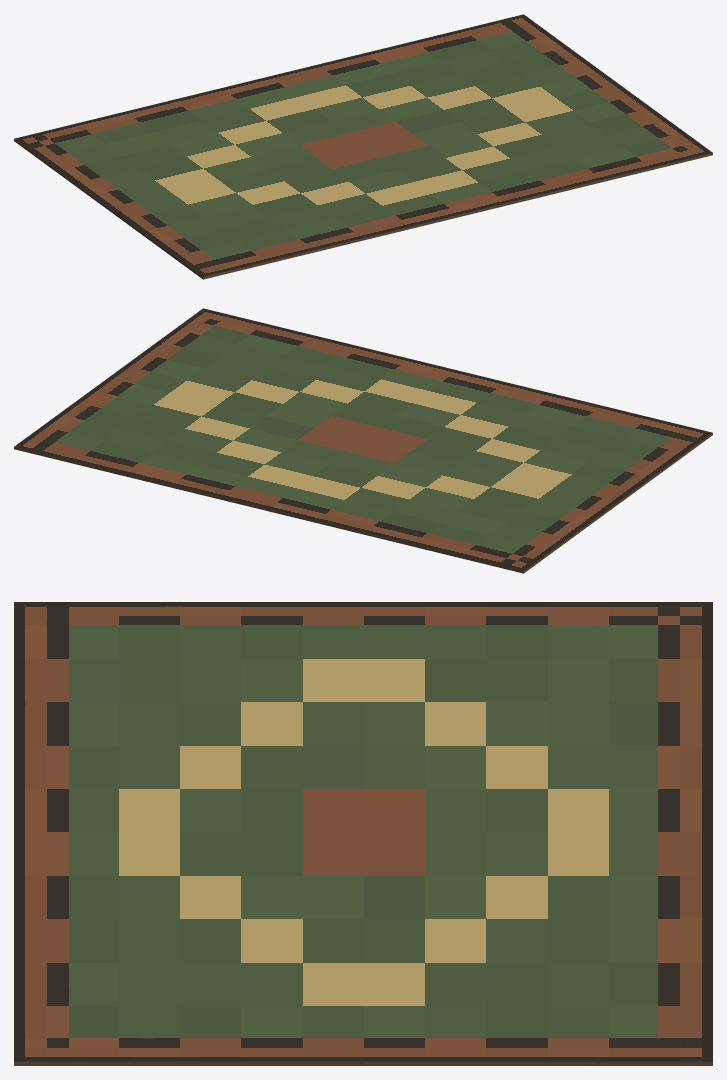
File: rug-large.glb
3 views of the same model, one above another, from view 1: azimuth 30°, elevation 25°; view 2: azimuth 150°, elevation 25°; view 3: azimuth 270°, elevation 25° (orthographic). The views are drawn at different scales.
Visible parts, largest first — view 1: rug-large.001; view 2: rug-large.001; view 3: rug-large.001.
Boxes of the visible parts, x1,y1,x2,y2 form: rug-large.001: [14, 14, 712, 279]; rug-large.001: [14, 308, 712, 573]; rug-large.001: [14, 602, 712, 1065].
Size of the model in its own units: 2.8 by 0.0126 by 1.8.
Materials: 1 (1 with a texture image).
